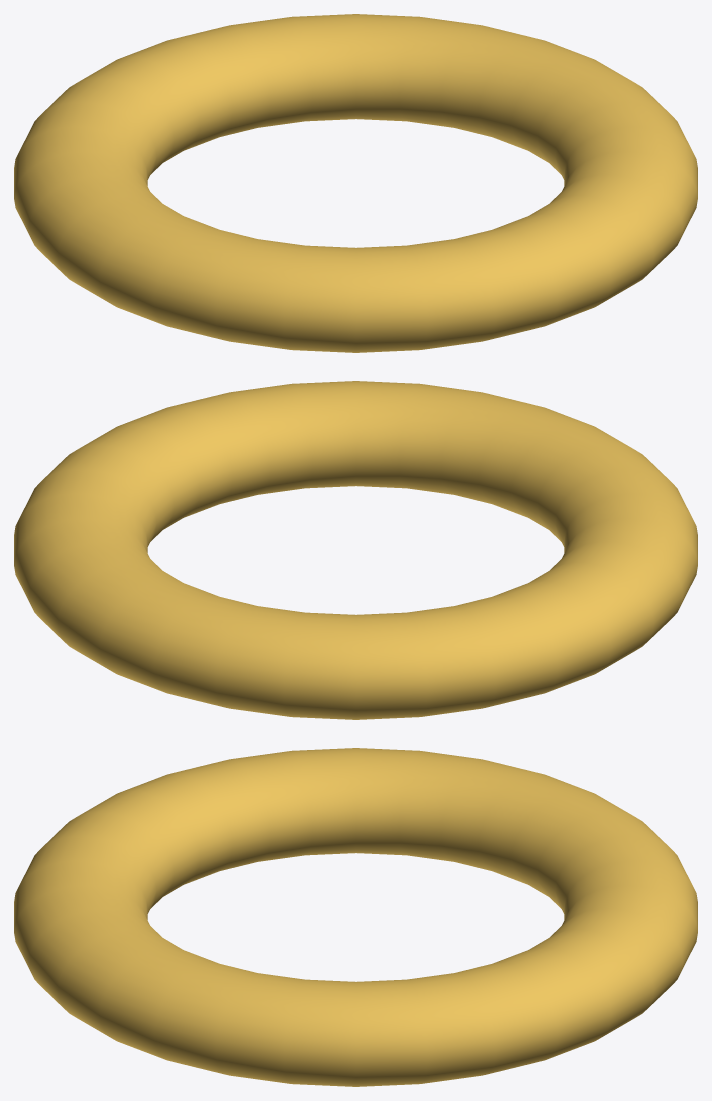
The model's file is Halo.fbx.
3 views of the same model, one above another, from view 1: azimuth 30°, elevation 25°; view 2: azimuth 150°, elevation 25°; view 3: azimuth 270°, elevation 25° (orthographic).
Parts seen in each view (by area): view 1: Halo; view 2: Halo; view 3: Halo.
Boxes of the visible parts, x1,y1,x2,y2 form: Halo: [14, 14, 697, 352]; Halo: [14, 381, 697, 719]; Halo: [14, 748, 697, 1086].
Size of the model in its own units: 192 by 27.16 by 191.
